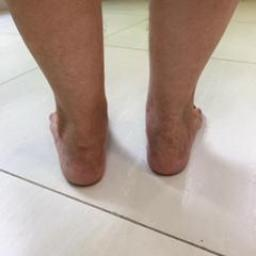Back View -Both Feet-: (35, 74, 219, 197)
